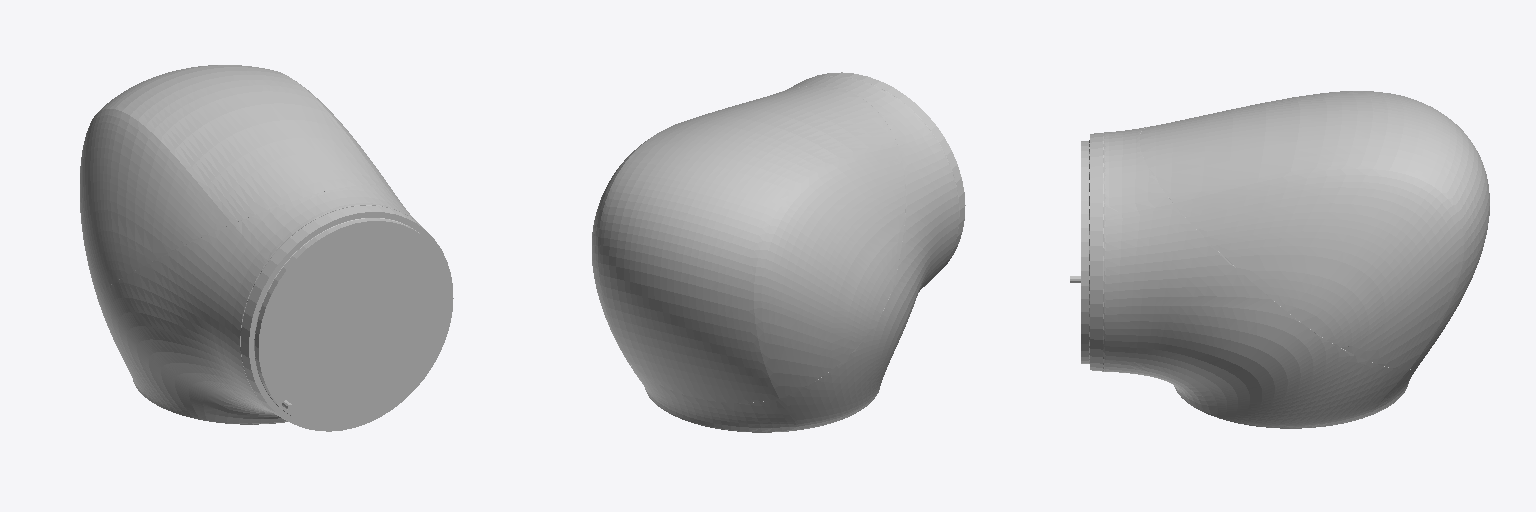
3 renders of one model, left to right at view 1: azimuth 30°, elevation 25°; view 2: azimuth 150°, elevation 25°; view 3: azimuth 270°, elevation 25°, orthographic.
Parts seen in each view (by area): view 1: link_6; view 2: link_6; view 3: link_6.
Part boxes in pixels (left/top/right/bottom): link_6: left=80, top=65, right=453, bottom=431; link_6: left=592, top=72, right=965, bottom=432; link_6: left=1070, top=91, right=1489, bottom=428.
Size of the model in its own units: 0.1322 by 0.1376 by 0.1825.